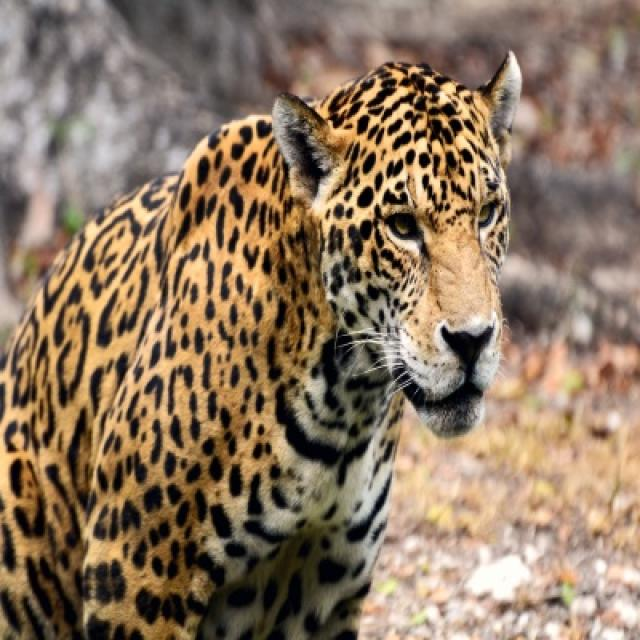Jaguar: (0, 53, 523, 638)
